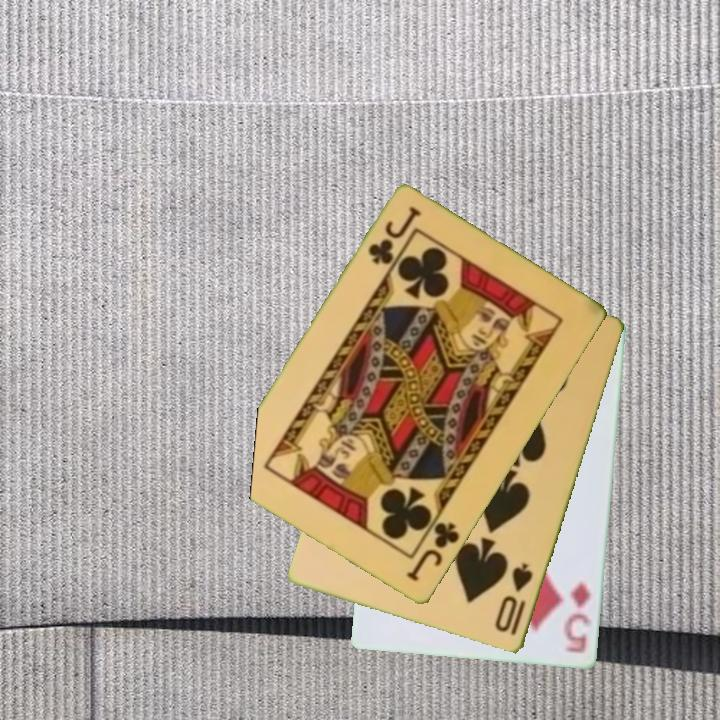10s: (491, 560, 537, 640)
5d: (561, 578, 595, 657)
Jc: (403, 519, 463, 586), (364, 203, 424, 269)
